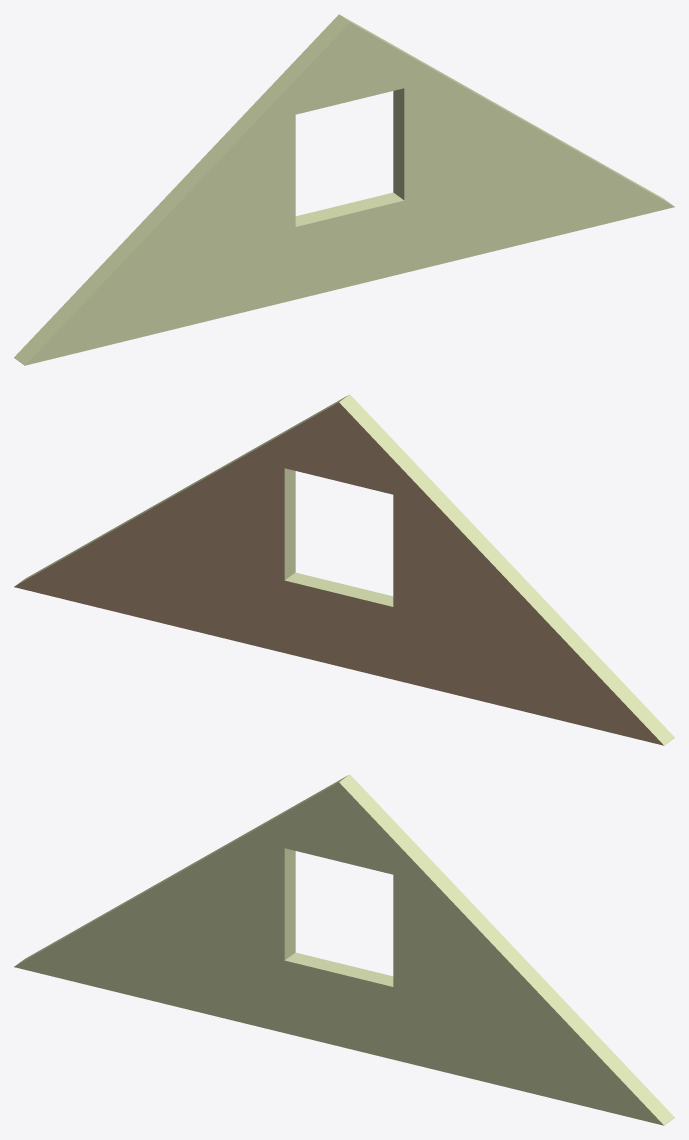
File: Wall2_C5_17.fbx
The picture shows the model from 3 angles, top to bottom: view 1: azimuth 30°, elevation 25°; view 2: azimuth 150°, elevation 25°; view 3: azimuth 330°, elevation 25°; orthographic projection.
Parts seen in each view (by area): view 1: Wall2_C5_17; view 2: Wall2_C5_17; view 3: Wall2_C5_17.
Boxes of the visible parts, <box> form: Wall2_C5_17: <box>14,14,674,365</box>; Wall2_C5_17: <box>14,394,674,745</box>; Wall2_C5_17: <box>14,774,674,1125</box>.
Bounding box in the file's own units: 515 × 200 × 15.
